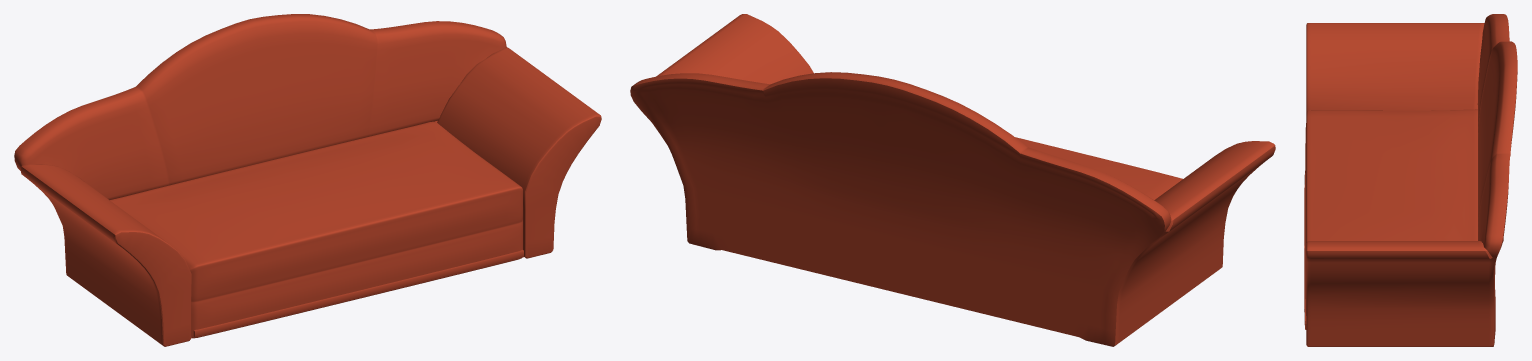
File: sillonCafe.obj
3 renders of one model, left to right at view 1: azimuth 30°, elevation 25°; view 2: azimuth 150°, elevation 25°; view 3: azimuth 270°, elevation 25°, orthographic. The views are drawn at different scales.
Visible parts, largest first — view 1: sofa; view 2: sofa; view 3: sofa.
Boxes of the visible parts, box(x1,y1,x2,y2) form: sofa: box(14, 14, 601, 346); sofa: box(630, 14, 1275, 346); sofa: box(1304, 14, 1517, 346).
Bounding box in the file's own units: 207 × 81.72 × 82.14.
1 material, 1 textured.
